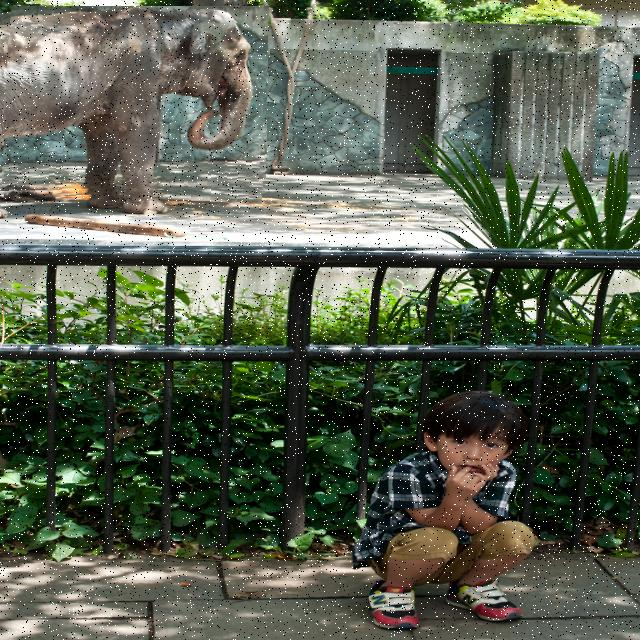elephant: (4, 6, 269, 201)
